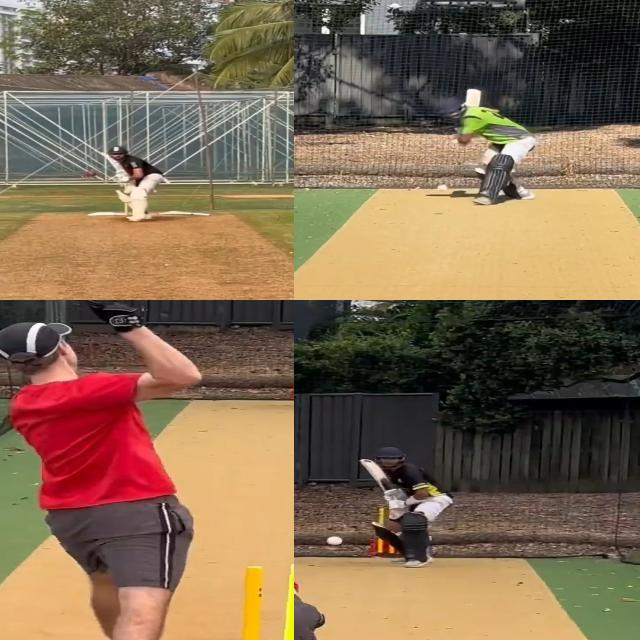Cricket ball: (325, 535, 343, 546), (434, 183, 451, 193), (84, 171, 96, 177)
Stumps: (223, 563, 294, 640)
